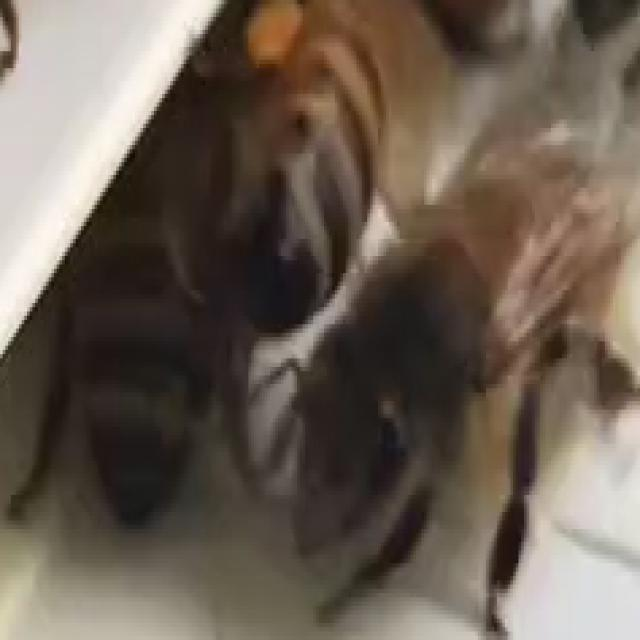honeybee: (321, 136, 639, 640), (48, 130, 208, 552), (207, 18, 423, 306)
